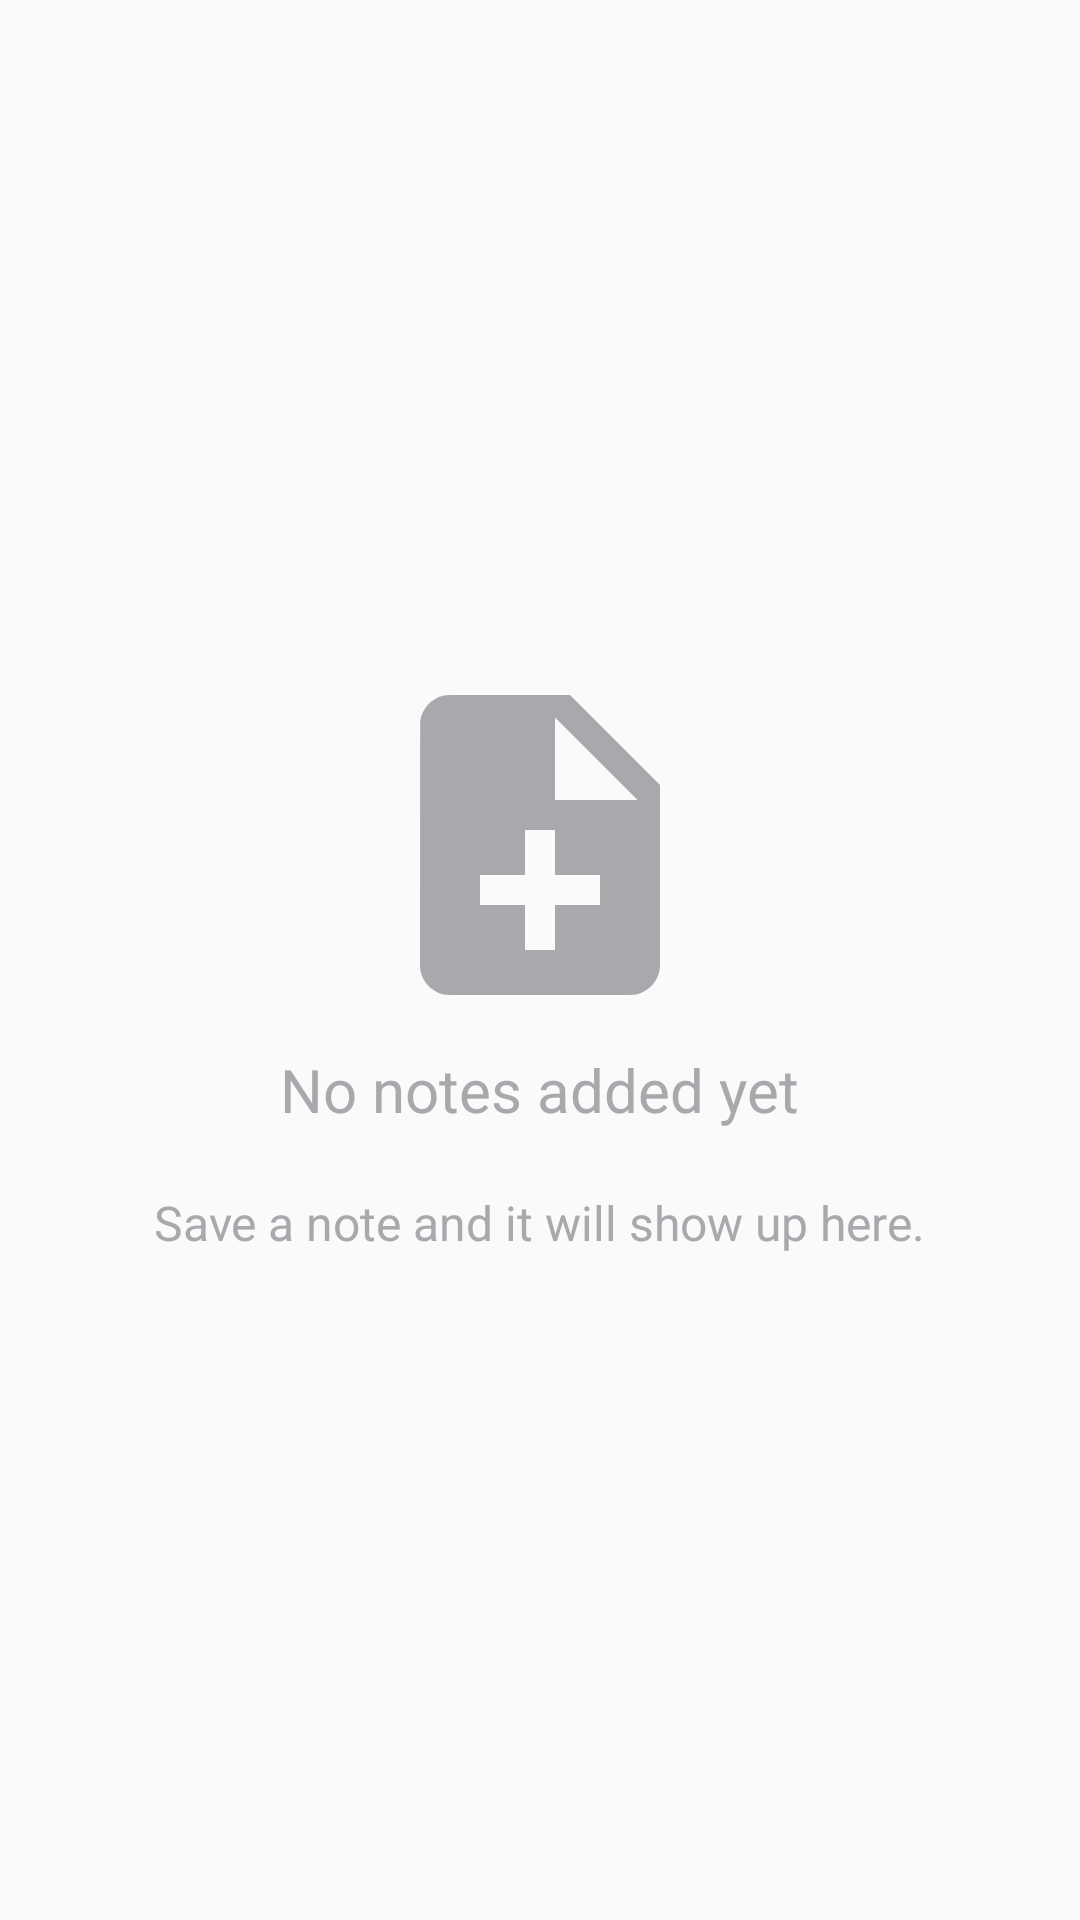

Where icons sit on this 1080px×1920px app screen, as (x1, y1, x2, y2):
note add: (420, 695, 660, 995)
